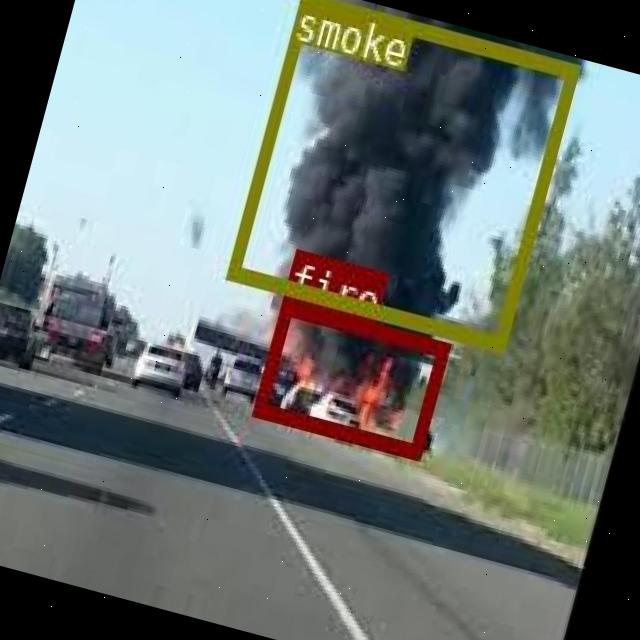fire: (251, 295, 448, 455)
smoke: (224, 0, 578, 347)
